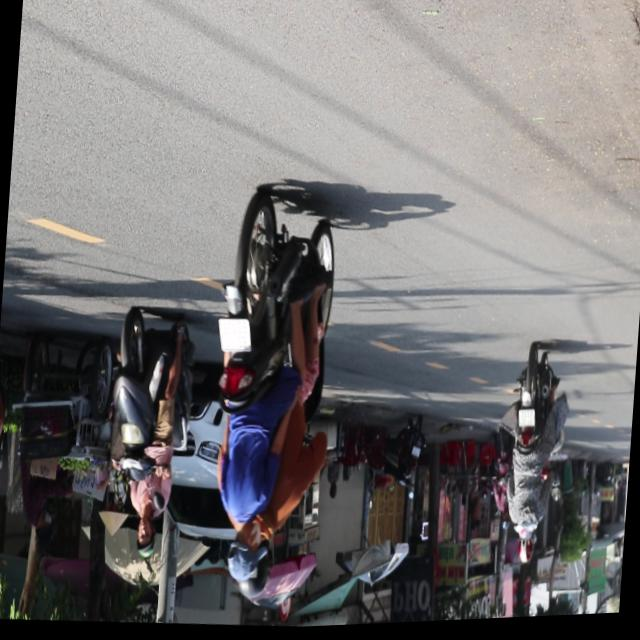helmet: (235, 535, 272, 606), (132, 513, 157, 559), (514, 536, 534, 569)
licenseplate: (194, 181, 348, 611), (99, 305, 197, 565), (496, 347, 567, 572)
motorcyclist: (222, 516, 266, 589)
nohelmet: (216, 319, 251, 355), (516, 412, 534, 432)
